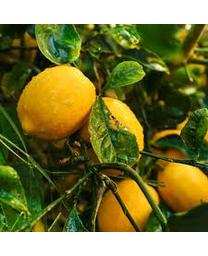lemon: (17, 64, 95, 143), (100, 178, 162, 233), (159, 160, 207, 210)
